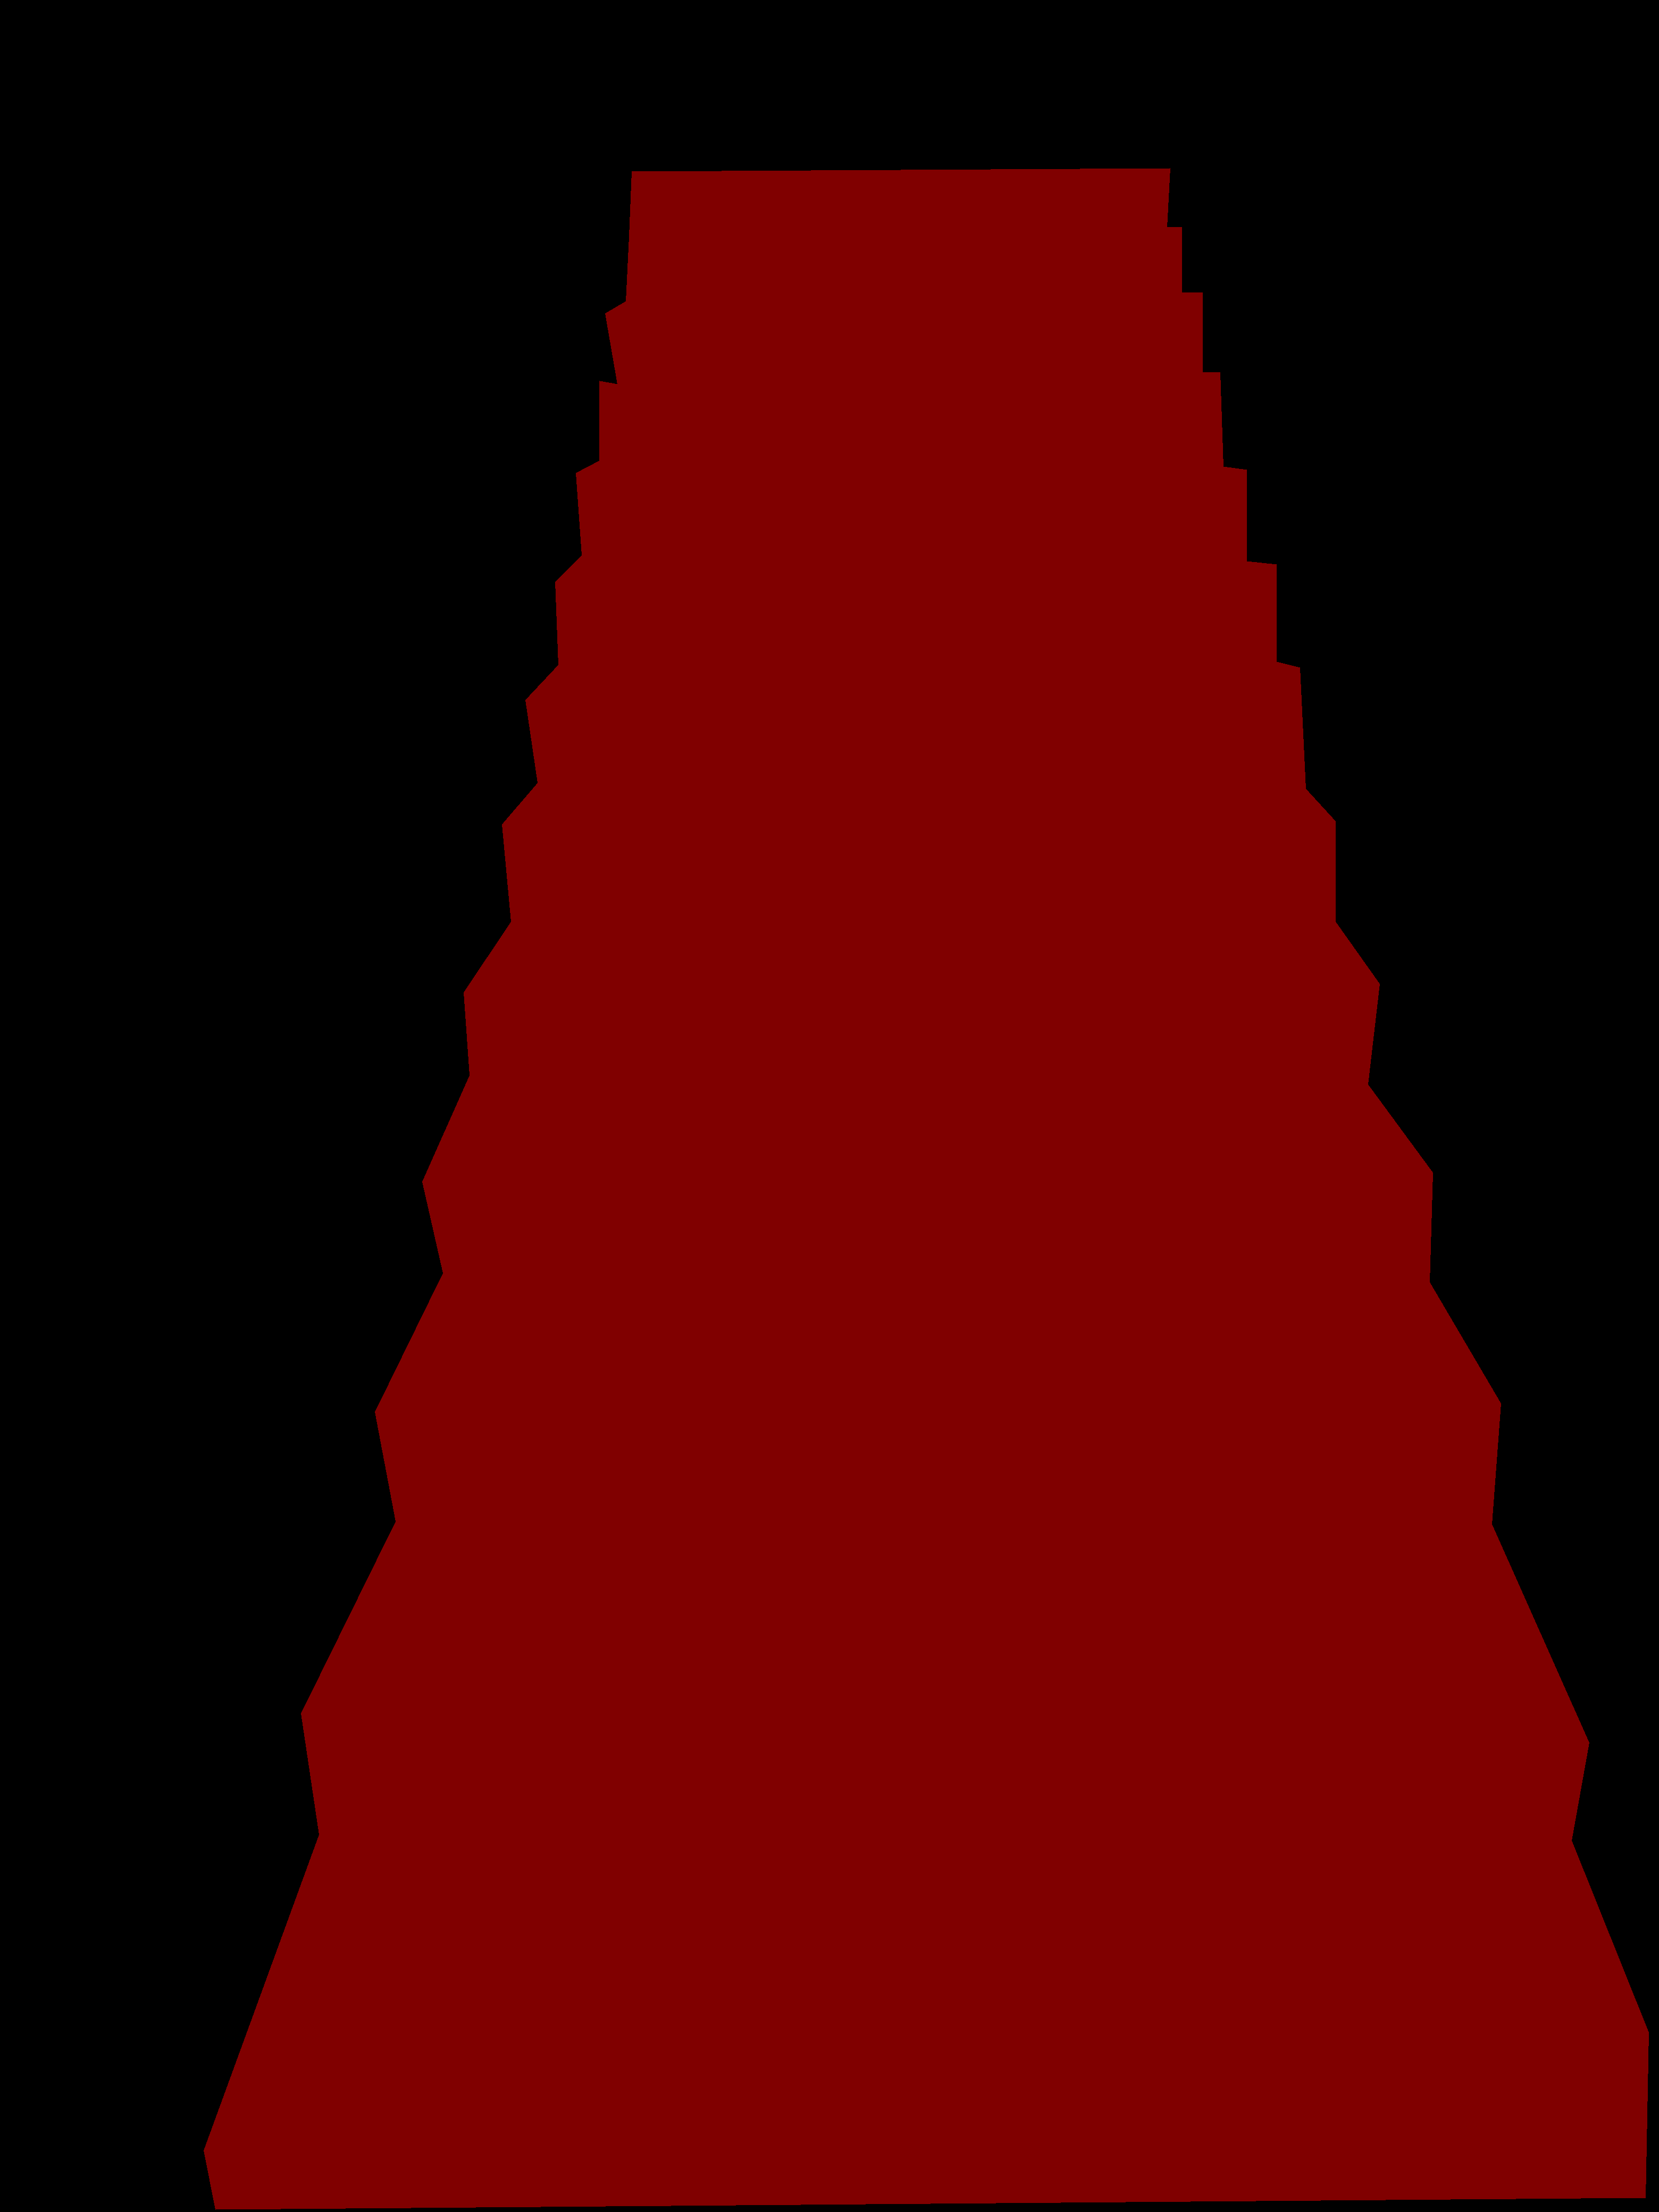stair: (204, 167, 1649, 2209)
